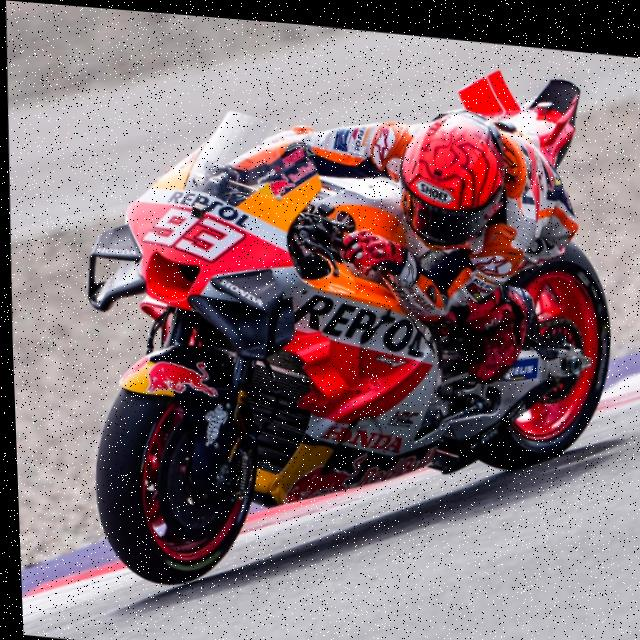helmet: (390, 92, 512, 252)
